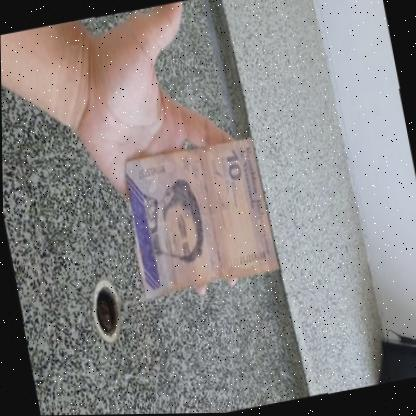ten-front-vef: (118, 136, 279, 301)
